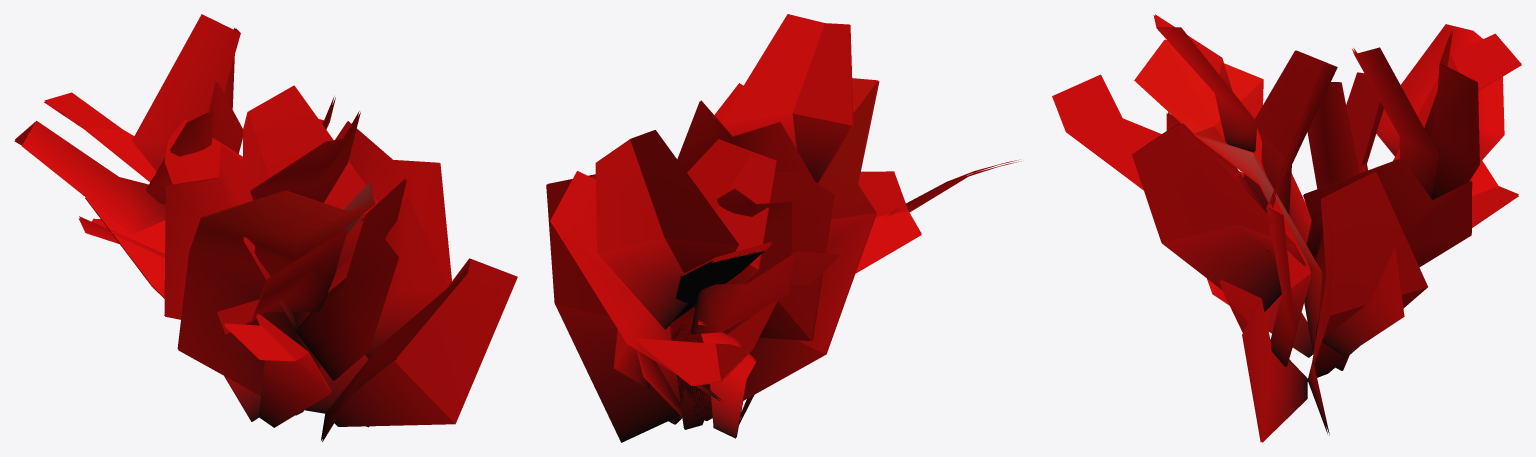
Rendered from Bush_01.fbx.
3 views of the same model, side by side, from view 1: azimuth 30°, elevation 25°; view 2: azimuth 150°, elevation 25°; view 3: azimuth 270°, elevation 25° (orthographic). The views are drawn at different scales.
Visible parts, largest first — view 1: Deciduous_Bush_C4; view 2: Deciduous_Bush_C4; view 3: Deciduous_Bush_C4.
Boxes of the visible parts, box(x1,y1,x2,y2) form: Deciduous_Bush_C4: box(14, 14, 517, 441); Deciduous_Bush_C4: box(546, 14, 1021, 442); Deciduous_Bush_C4: box(1052, 14, 1521, 442).
Bounding box in the file's own units: 118 × 115 × 133.
